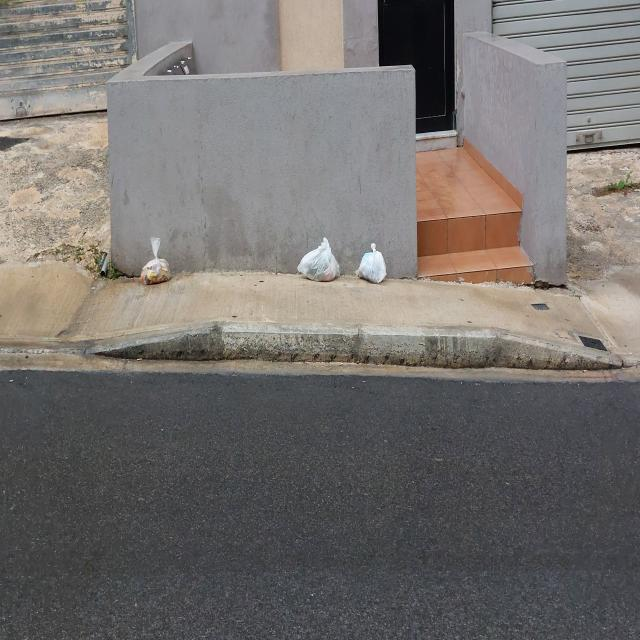Organic Waste -White Bag-: (298, 237, 342, 283), (141, 237, 172, 286), (357, 244, 389, 285)
